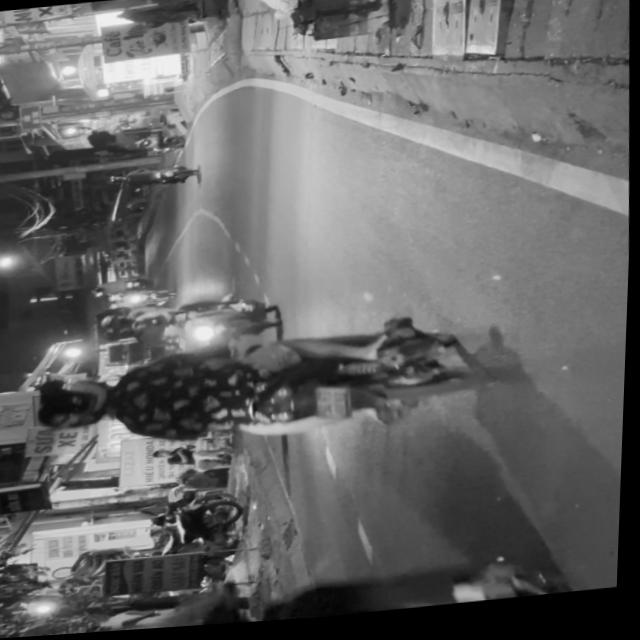helmet: (36, 373, 119, 426)
licenseplate: (25, 316, 490, 468), (0, 549, 612, 639)
nohelmet: (315, 390, 353, 426)
